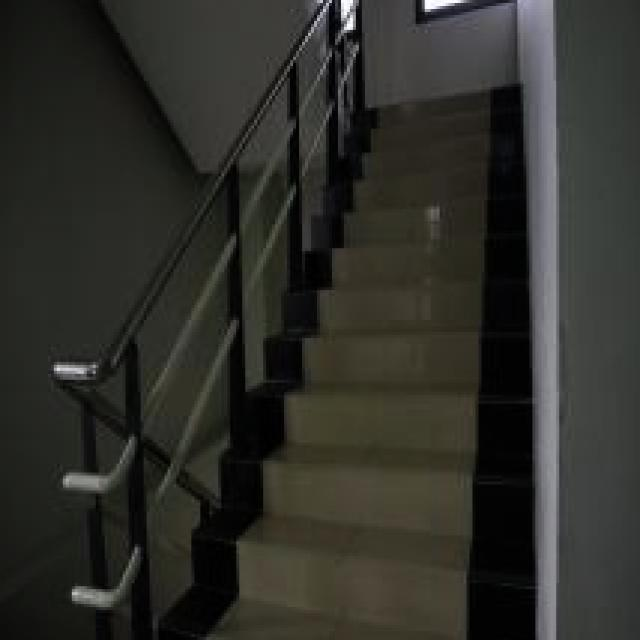upstair: (347, 81, 536, 640)
